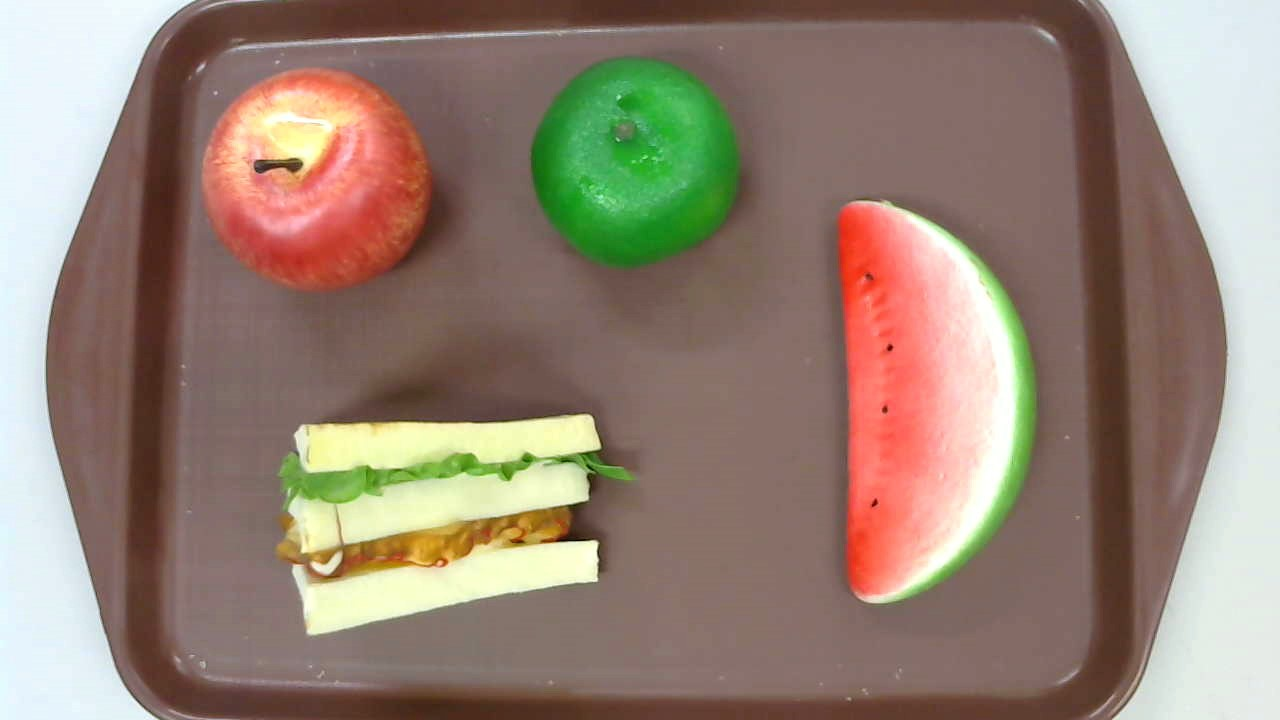green orange: (531, 58, 739, 271)
red apple: (201, 66, 433, 294)
sandwich: (275, 413, 638, 634)
water melon: (837, 197, 1038, 603)
